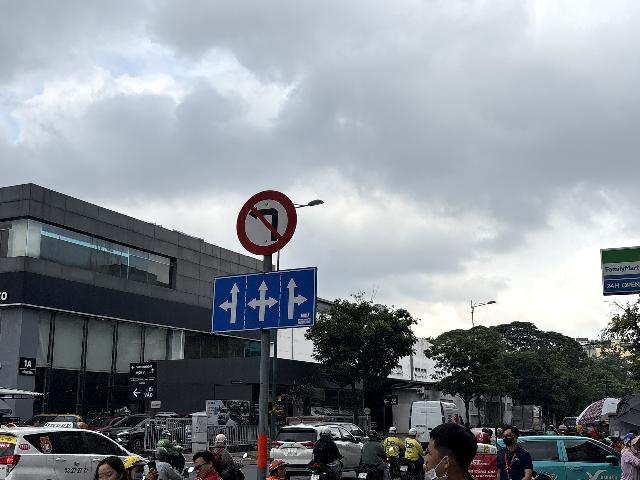cam-re-trai: (234, 189, 298, 256)
